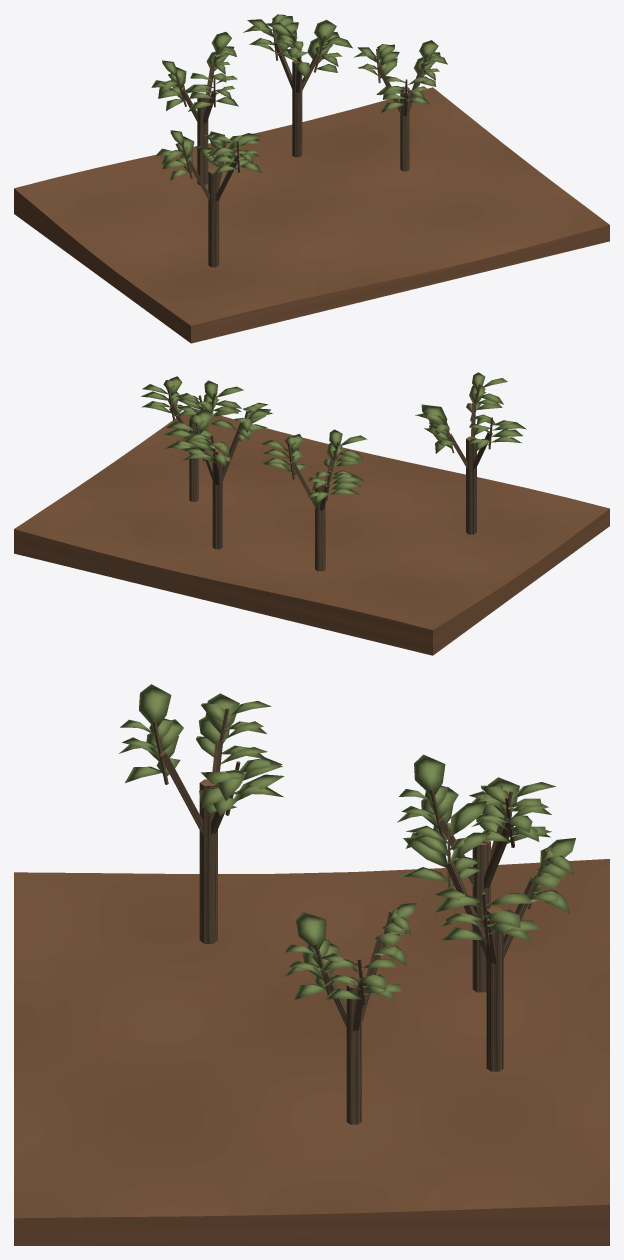
File: dublin.glb
3 renders of one model, top to bottom at view 1: azimuth 30°, elevation 25°; view 2: azimuth 150°, elevation 25°; view 3: azimuth 270°, elevation 25°, orthographic. The views are drawn at different scales.
Parts seen in each view (by area): view 1: dublin; view 2: dublin; view 3: dublin.
Part boxes in pixels (left/top/right/bottom): dublin: left=14, top=14, right=609, bottom=343; dublin: left=14, top=372, right=609, bottom=655; dublin: left=14, top=684, right=609, bottom=1245.
Size of the model in its own units: 6.92 by 2.6 by 5.07.
1 material, 1 textured.
